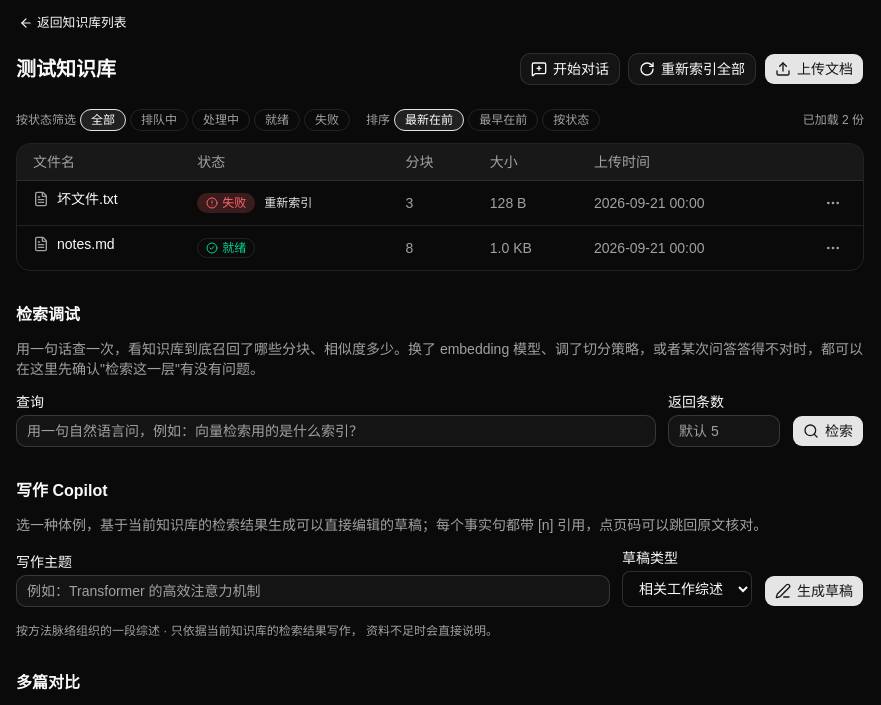
Scenario: 检索调试视图（issue #77） › 空命中的文案与"检索失败"分开
The width and height of the screenshot is (881, 705).
Type "知识库里没有的东西" into the field labelled "查询" at (336, 431), box x1=16 y1=415 x2=656 y2=447
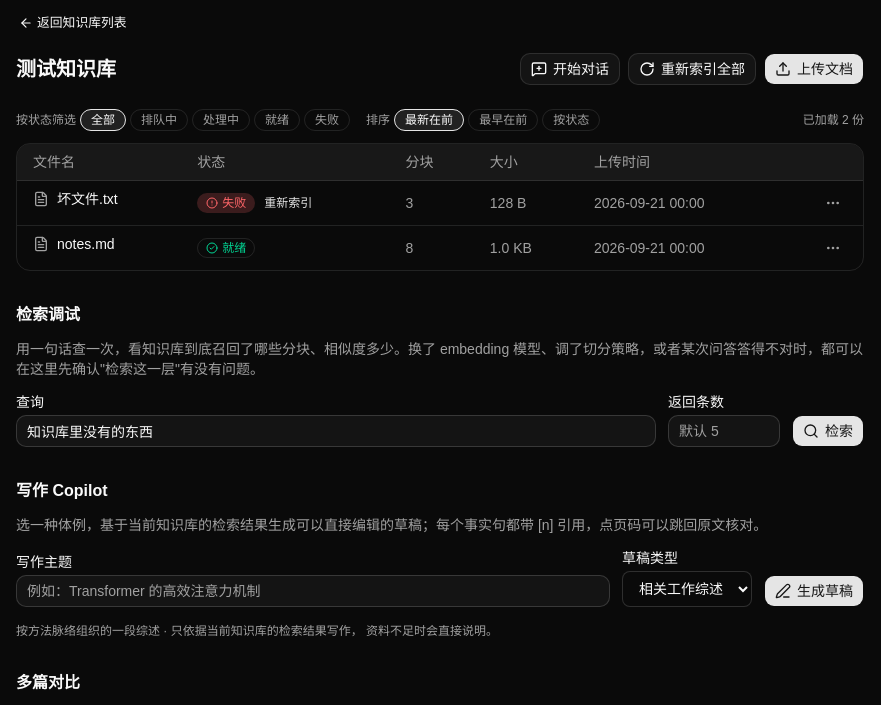
Click the button "检索" at (828, 431), box x1=792 y1=415 x2=864 y2=447
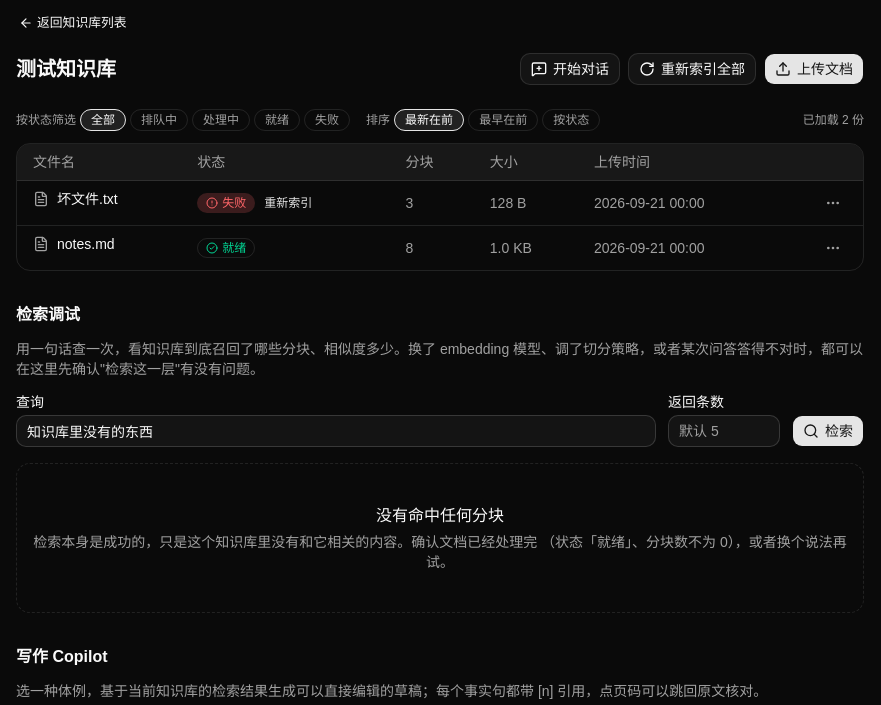
Check: the text "没有命中任何分块" is shown, box x1=376 y1=507 x2=504 y2=524
